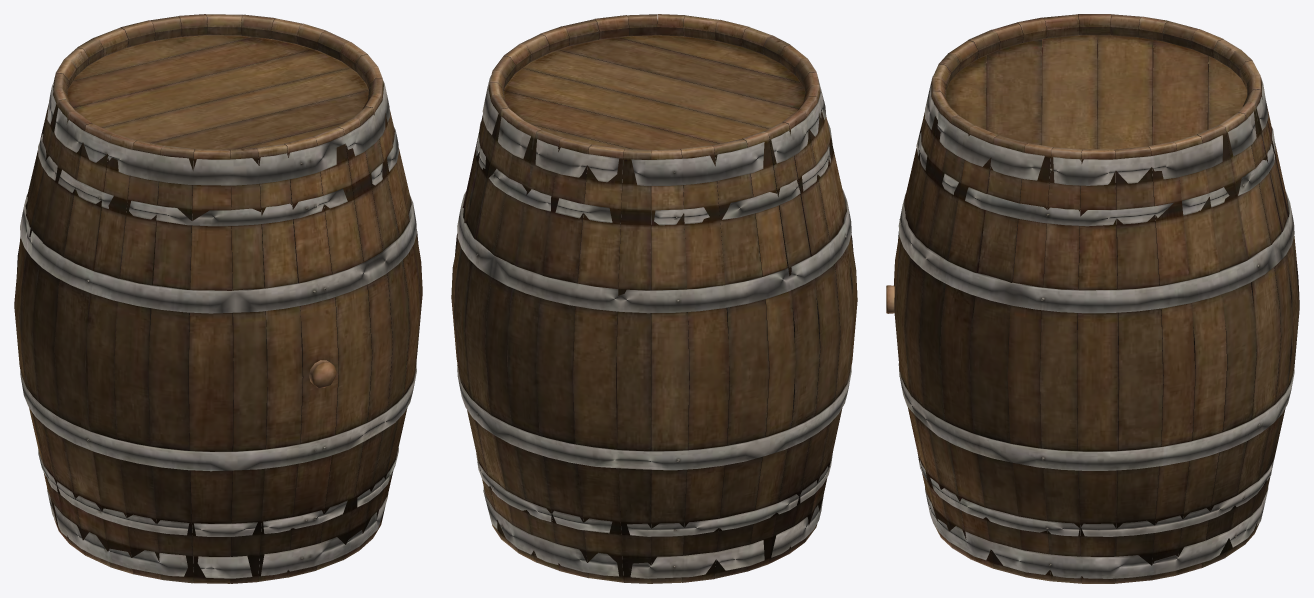
File: winebarrel.glb
3 views of the same model, side by side, from view 1: azimuth 30°, elevation 25°; view 2: azimuth 150°, elevation 25°; view 3: azimuth 270°, elevation 25° (orthographic).
Parts seen in each view (by area): view 1: wine_barrel_01_Lid; view 2: wine_barrel_01_Lid; view 3: wine_barrel_01_Lid.
Part boxes in pixels (left/top/right/bottom): wine_barrel_01_Lid: left=14, top=14, right=422, bottom=583; wine_barrel_01_Lid: left=451, top=14, right=857, bottom=583; wine_barrel_01_Lid: left=886, top=14, right=1299, bottom=583.
Bounding box in the file's own units: 0.7419 × 0.8695 × 0.7554.
1 material, 1 textured.
